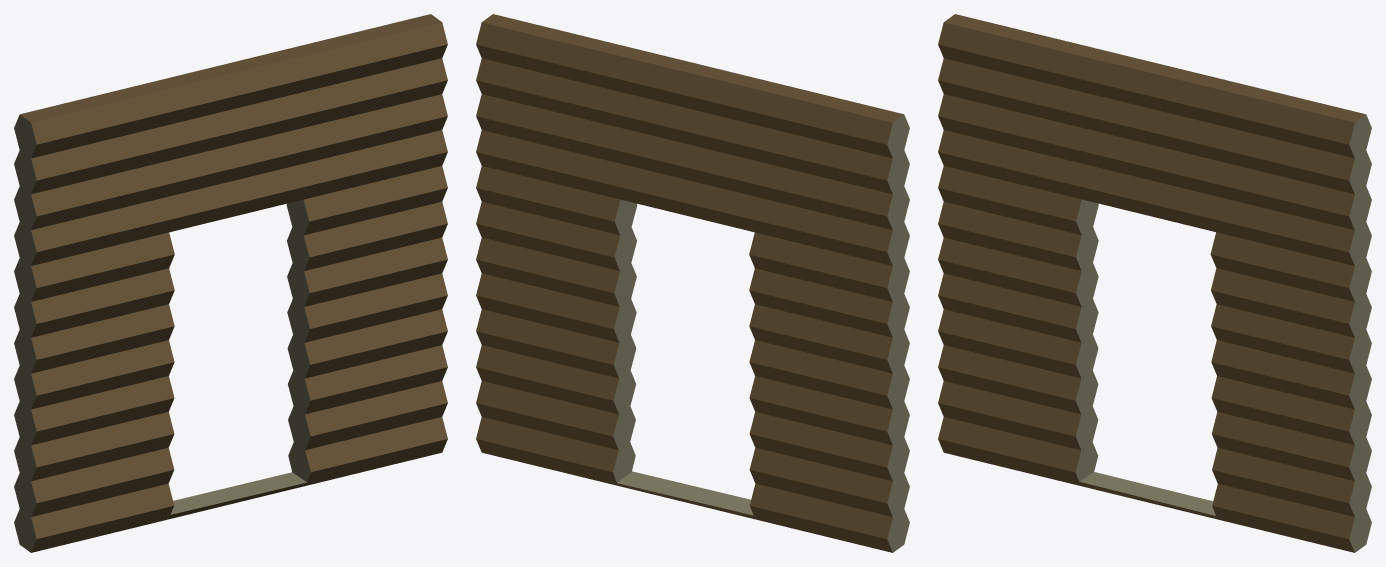
The model's file is doorway_3m.fbx.
3 views of the same model, side by side, from view 1: azimuth 30°, elevation 25°; view 2: azimuth 150°, elevation 25°; view 3: azimuth 330°, elevation 25° (orthographic).
Parts seen in each view (by area): view 1: Doorway; view 2: Doorway; view 3: Doorway.
Part boxes in pixels (x1,y1,x2,y2): Doorway: [14, 14, 447, 552]; Doorway: [476, 14, 909, 552]; Doorway: [938, 14, 1371, 552].
Bounding box in the file's own units: 300 × 300 × 28.73.
